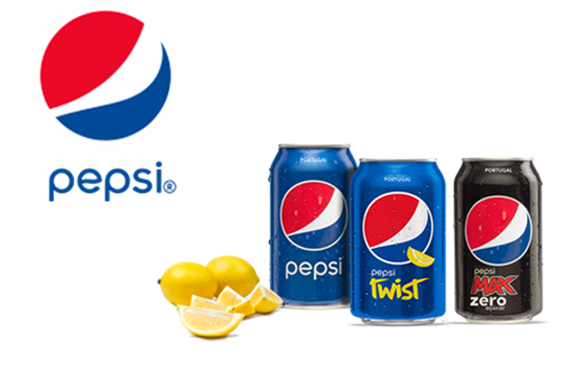pepsi: (33, 9, 171, 139), (39, 9, 171, 139), (362, 190, 433, 264), (362, 190, 431, 264), (279, 178, 347, 251), (464, 193, 532, 265)
